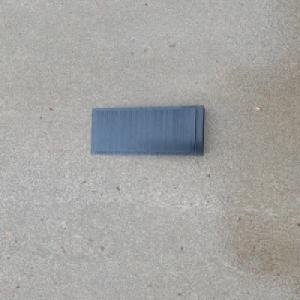PlasticPart: (90, 104, 207, 156)
